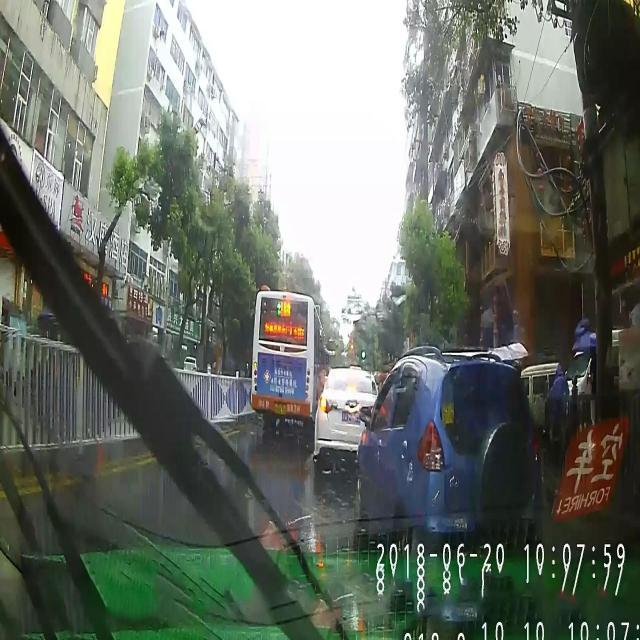car: (355, 346, 536, 540), (313, 367, 379, 471), (564, 327, 622, 400), (521, 360, 564, 433)
